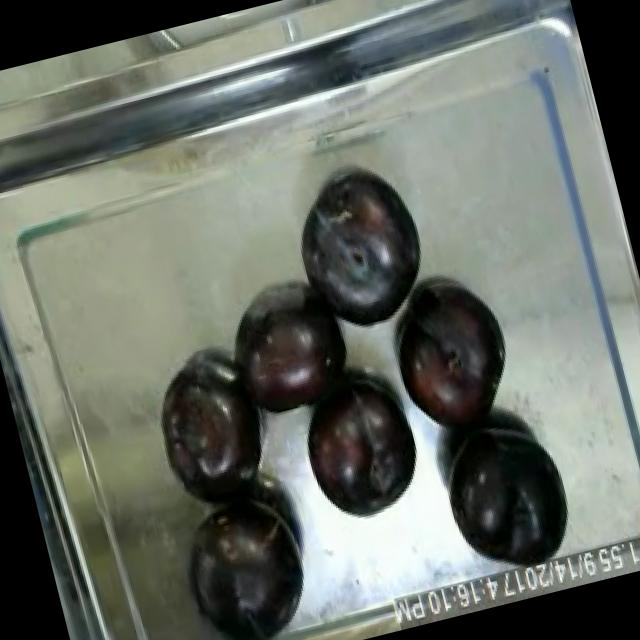Fruit: (279, 158, 446, 344), (425, 404, 586, 584), (374, 268, 528, 448), (280, 361, 436, 536), (208, 280, 368, 440), (176, 499, 331, 640), (143, 354, 279, 504)
